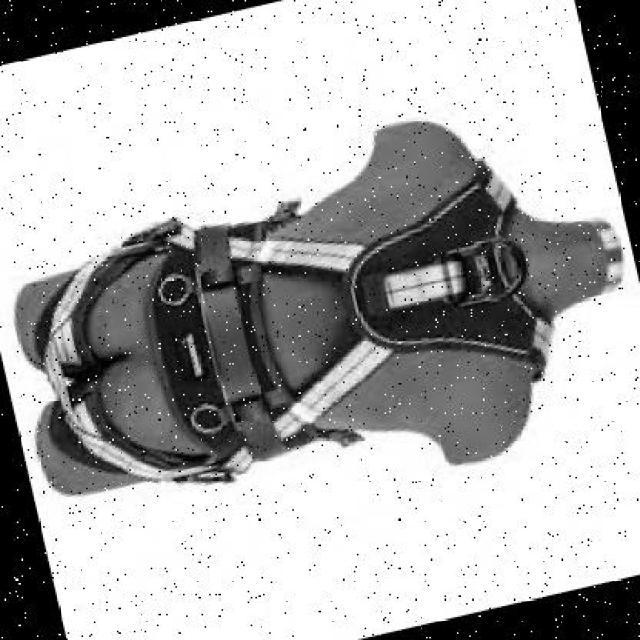Arnes_seguridad: (10, 140, 567, 516)
